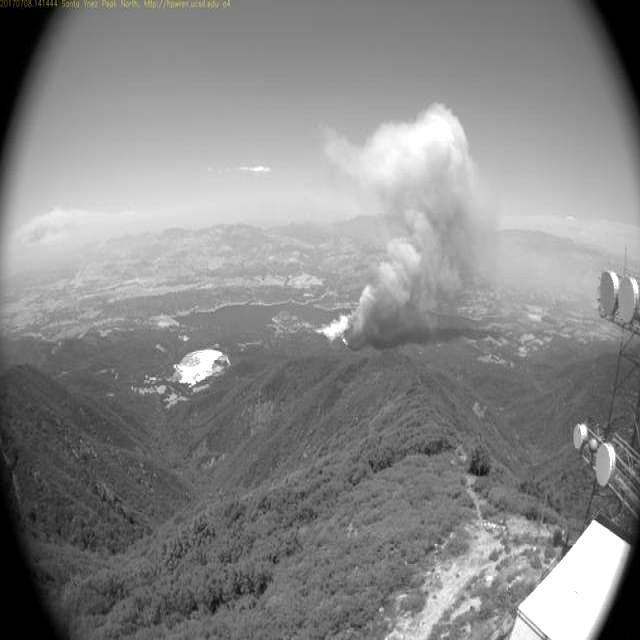Smoke: (311, 92, 511, 354)
